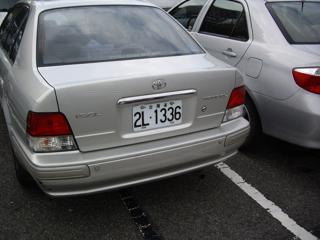plate: (129, 100, 185, 129)
